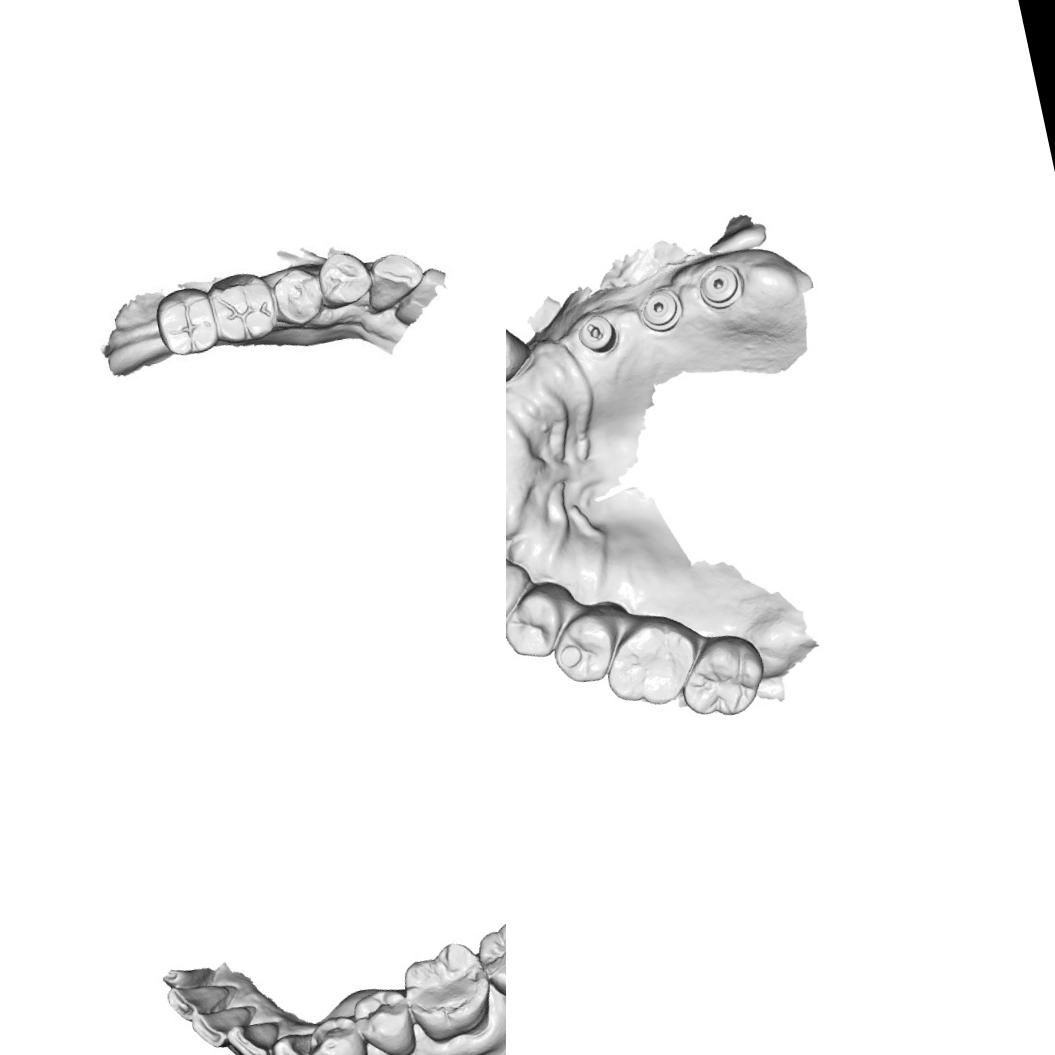canine: (358, 249, 426, 314), (506, 553, 536, 638), (506, 308, 528, 393), (265, 1029, 322, 1055)
implant: (633, 282, 686, 336), (694, 260, 745, 312)
implant_minus: (573, 308, 622, 358)
incisor: (188, 1002, 262, 1052), (163, 975, 238, 1024), (223, 1015, 286, 1055), (160, 958, 219, 994)
molar: (597, 609, 708, 717), (396, 936, 500, 1050), (670, 626, 773, 717), (208, 264, 280, 345), (151, 285, 216, 358), (473, 915, 506, 1008)
premolar: (544, 607, 627, 690), (506, 582, 573, 665), (350, 982, 421, 1055), (272, 261, 326, 328), (316, 248, 371, 308), (303, 1010, 373, 1055)
